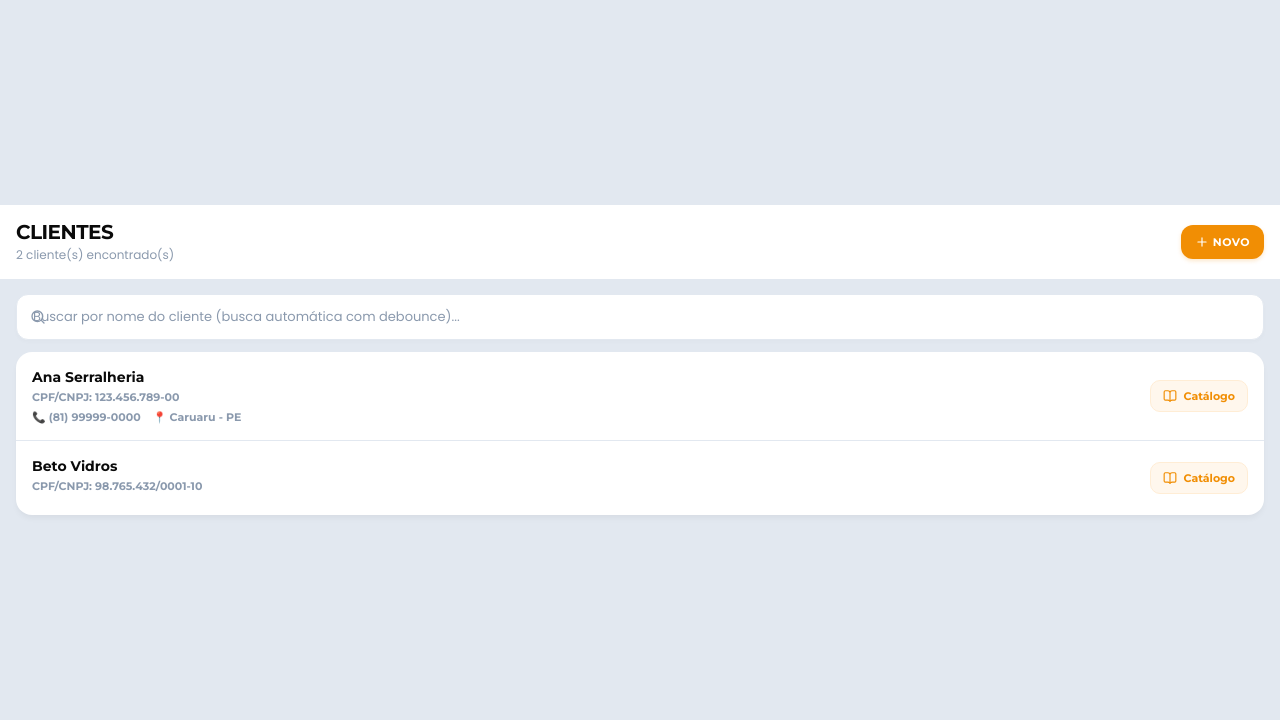
Clientes – cadastro › cancelar fecha o formulário sem enviar
Click the button "NOVO" at (1222, 242), box [1181, 225, 1264, 259]
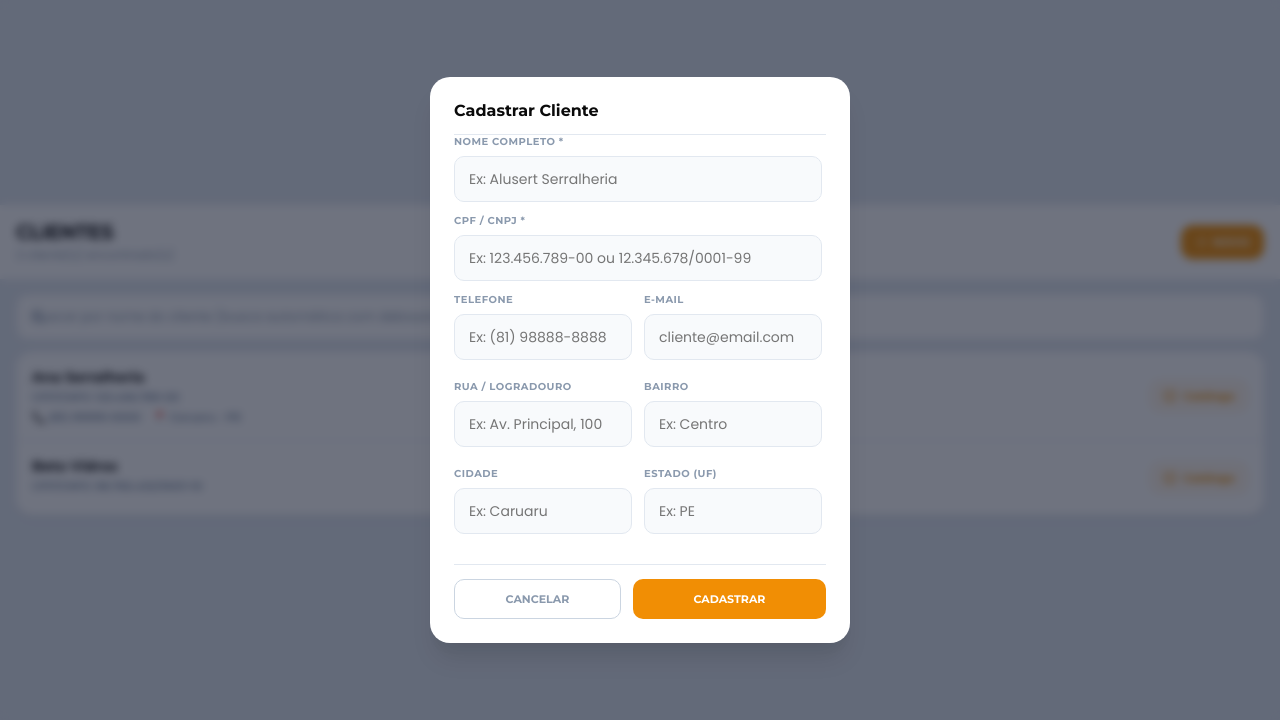
Type "Desistiu" into the field labelled "NOME COMPLETO *" at (638, 179), box [454, 156, 822, 202]
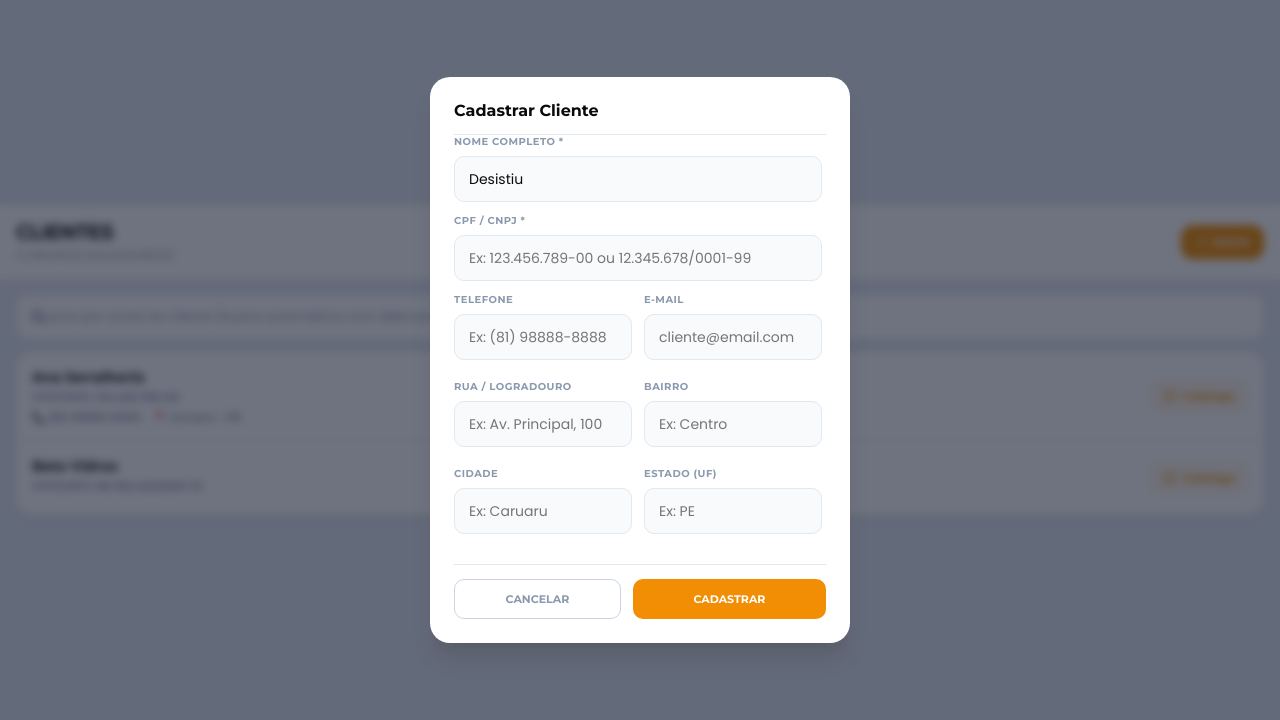
Click the button "CANCELAR" at (537, 599), box [454, 579, 621, 619]
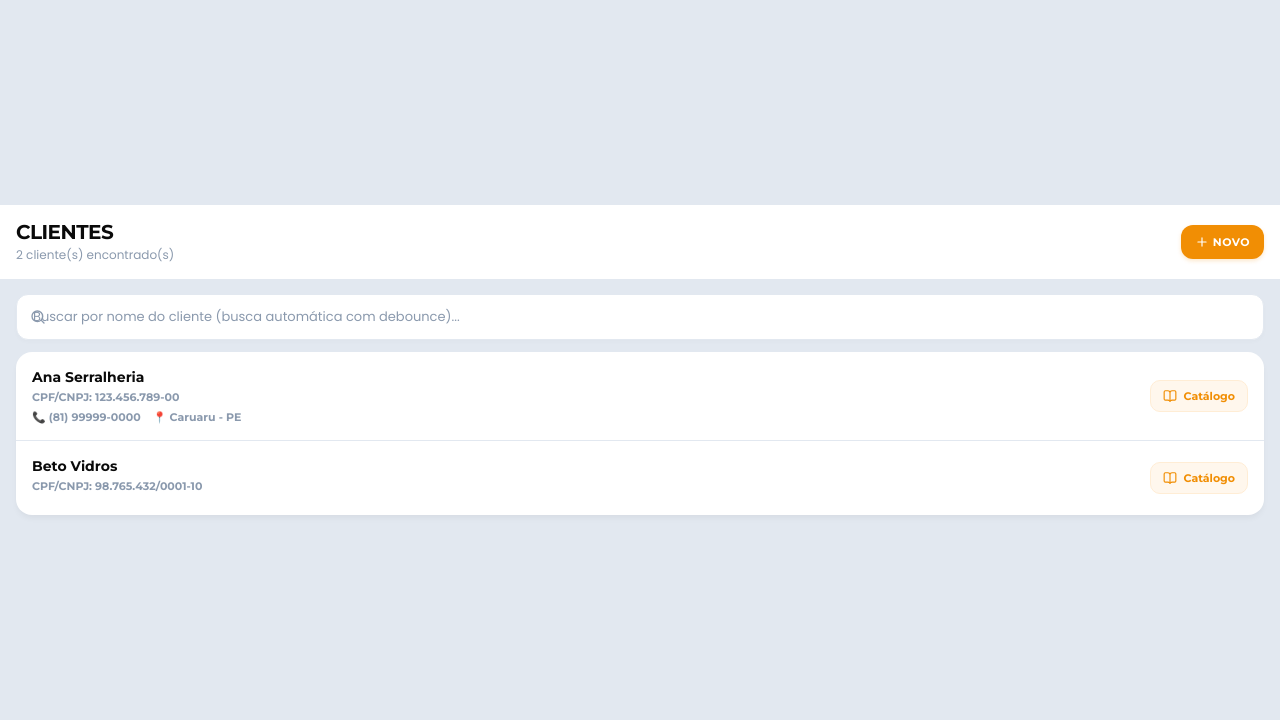
Now the heading "Cadastrar Cliente" is gone
